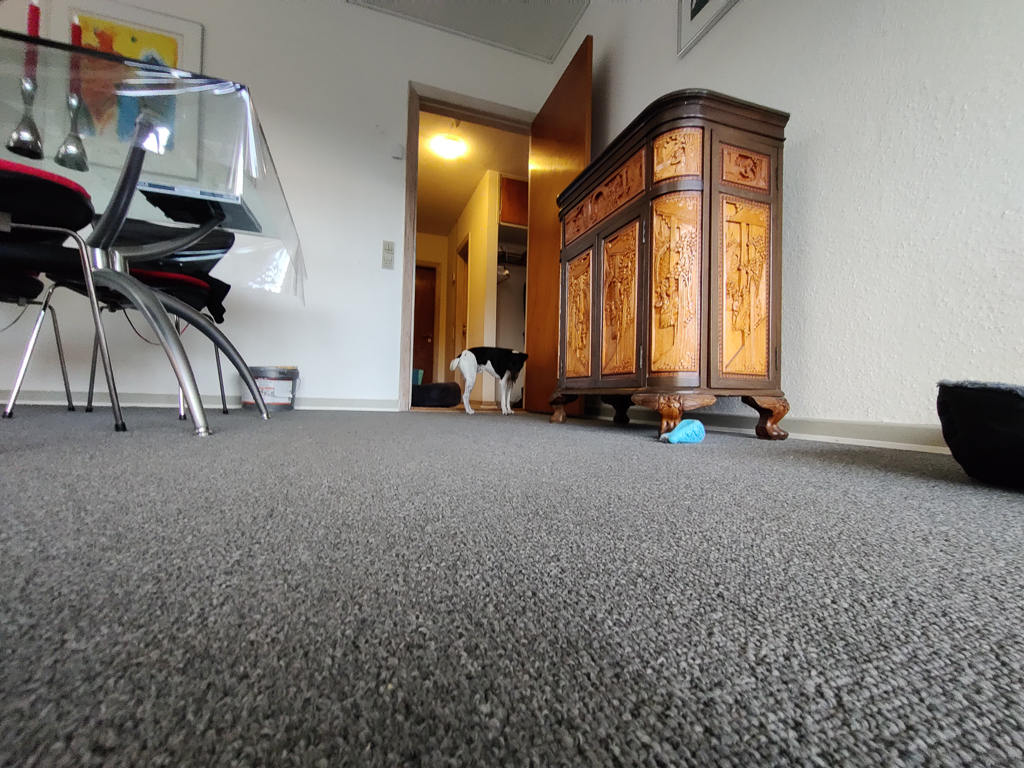Dog: (445, 334, 536, 421)
